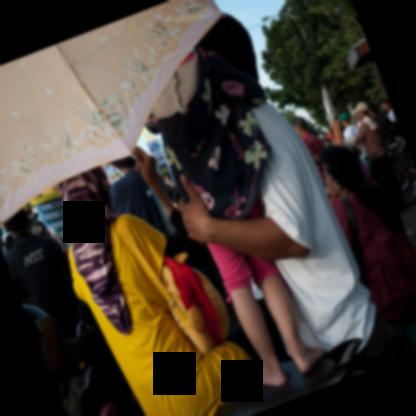handbag: (114, 215, 231, 352), (340, 197, 364, 284)
